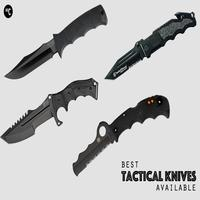knife: (67, 91, 178, 175), (3, 3, 107, 87), (103, 7, 197, 82), (1, 80, 100, 151)
